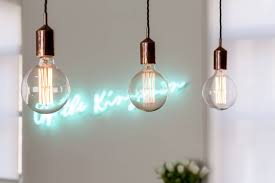bulb: (13, 49, 80, 120), (122, 51, 173, 123), (197, 55, 248, 119)
